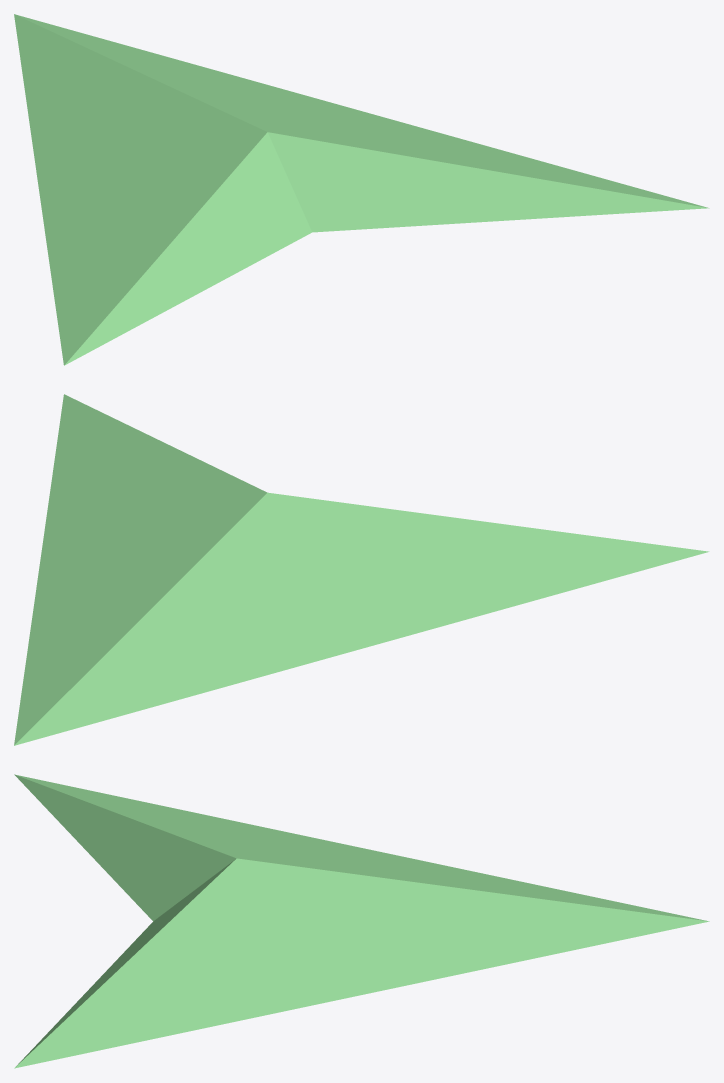
The model's file is Loc.gltf.
3 views of the same model, one above another, from view 1: azimuth 30°, elevation 25°; view 2: azimuth 150°, elevation 25°; view 3: azimuth 270°, elevation 25° (orthographic). The views are drawn at different scales.
Visible parts, largest first — view 1: Node1; view 2: Node1; view 3: Node1.
Boxes of the visible parts, bbox=[...] form: Node1: bbox=[14, 14, 709, 365]; Node1: bbox=[14, 394, 709, 745]; Node1: bbox=[14, 774, 709, 1068].
Size of the model in its own units: 50 by 5 by 50.
